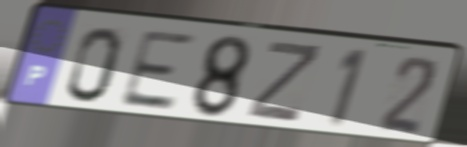0: (64, 24, 127, 105)
1: (328, 48, 369, 131)
2: (374, 54, 438, 137)
8: (191, 33, 254, 120)
E: (115, 27, 198, 113)
Z: (244, 39, 325, 127)
